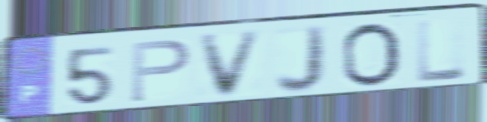5: (64, 43, 118, 106)
J: (273, 23, 331, 96)
L: (415, 16, 469, 85)
O: (340, 21, 404, 90)
P: (128, 37, 193, 105)
V: (196, 28, 267, 101)
